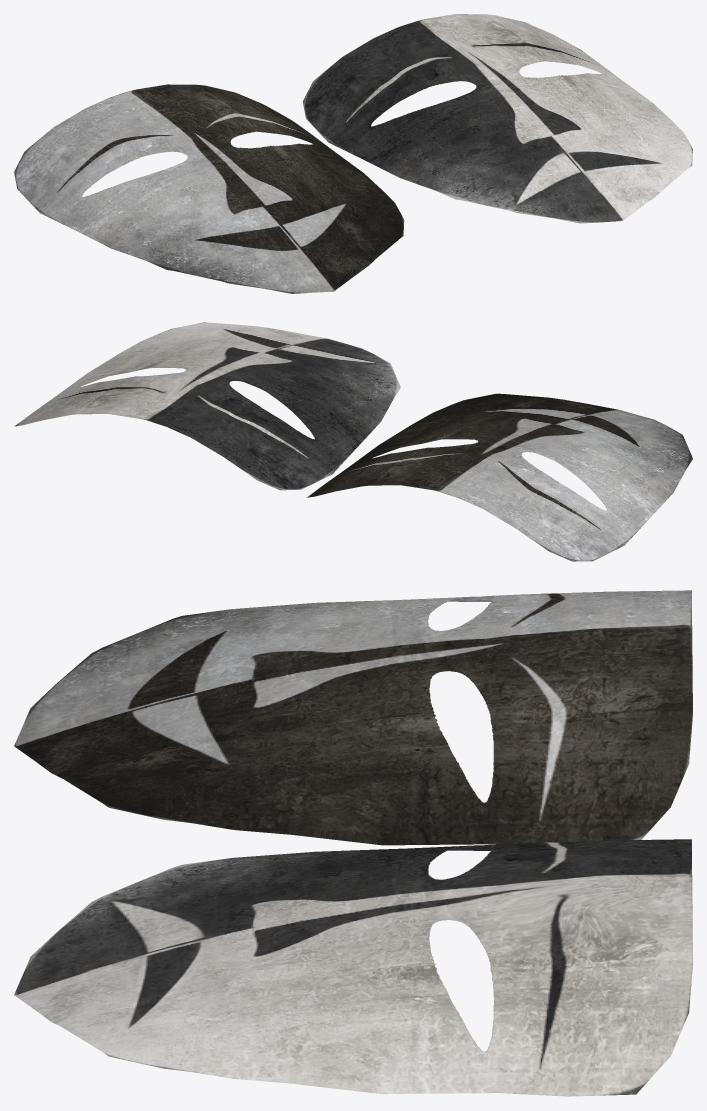
Rendered from masks.FBX.
The picture shows the model from 3 angles, top to bottom: view 1: azimuth 30°, elevation 25°; view 2: azimuth 150°, elevation 25°; view 3: azimuth 270°, elevation 25°; orthographic projection. The views are drawn at different scales.
Parts seen in each view (by area): view 1: Plane002, Plane001; view 2: Plane001, Plane002; view 3: Plane002, Plane001.
Part boxes in pixels (x1,y1,x2,y2): Plane002: [302, 14, 692, 223]; Plane001: [14, 84, 404, 293]; Plane001: [306, 393, 692, 561]; Plane002: [14, 322, 400, 490]; Plane002: [14, 839, 692, 1096]; Plane001: [14, 590, 692, 845].
Bounding box in the file's own units: 64.1 × 6.73 × 37.23.
